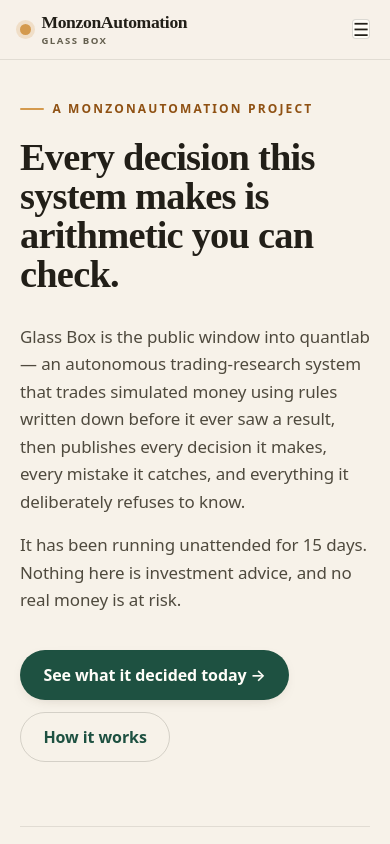
mobile slide-over traps focus › hides the rest of the app from assistive tech while open
Click the button with test id "mobile-nav-trigger" at (361,30), box [352,20,370,40]
(page scrolled)
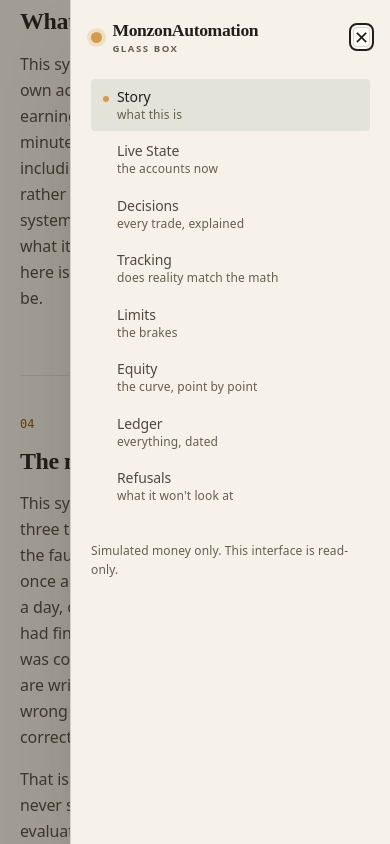
Check: the dialog with test id "mobile-nav-panel" is shown
